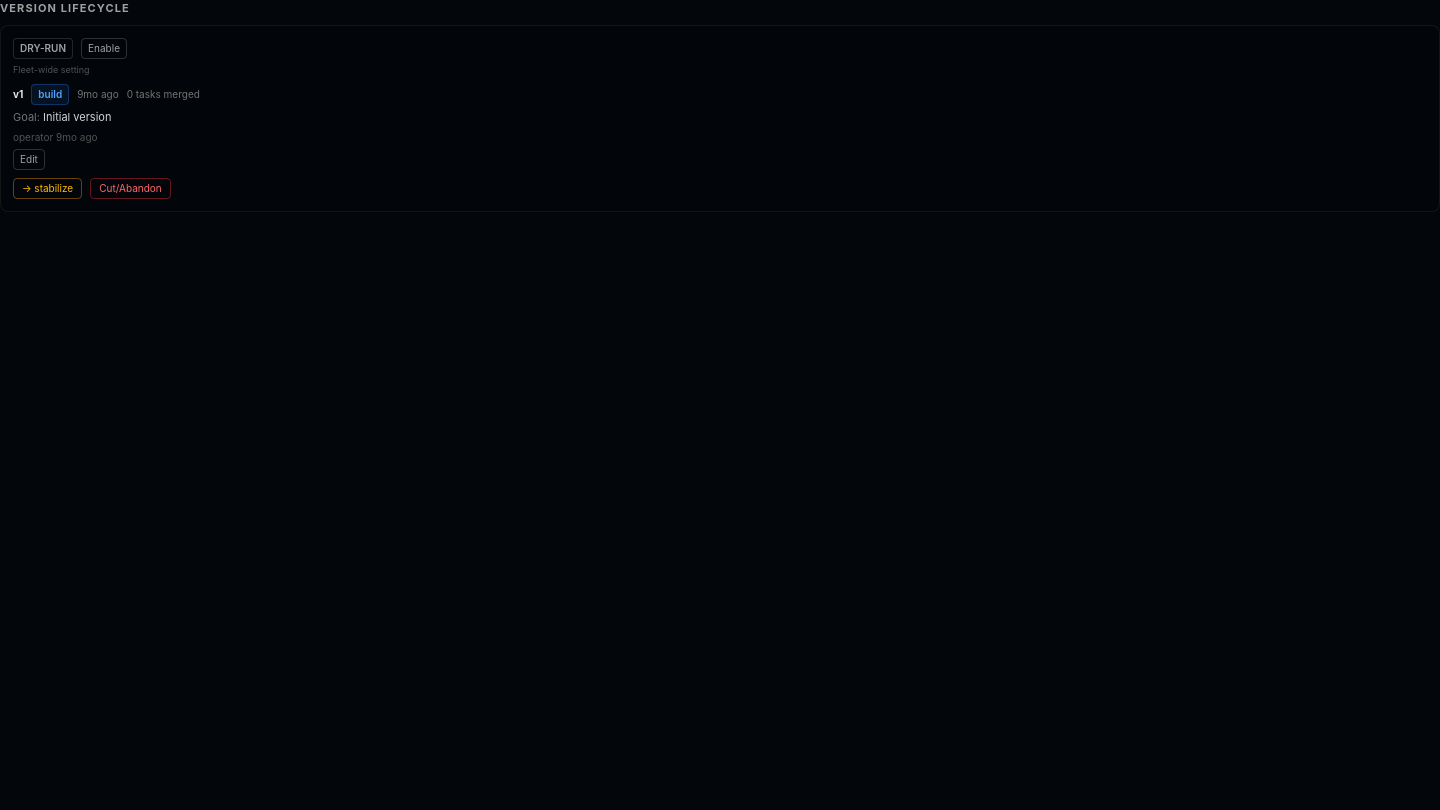
Test case: VersionLifecyclePanel › promotion enabled toggle › reverts the badge when patching promotion settings fails
Click the button "Enable" at [104, 48], box [81, 38, 127, 58]
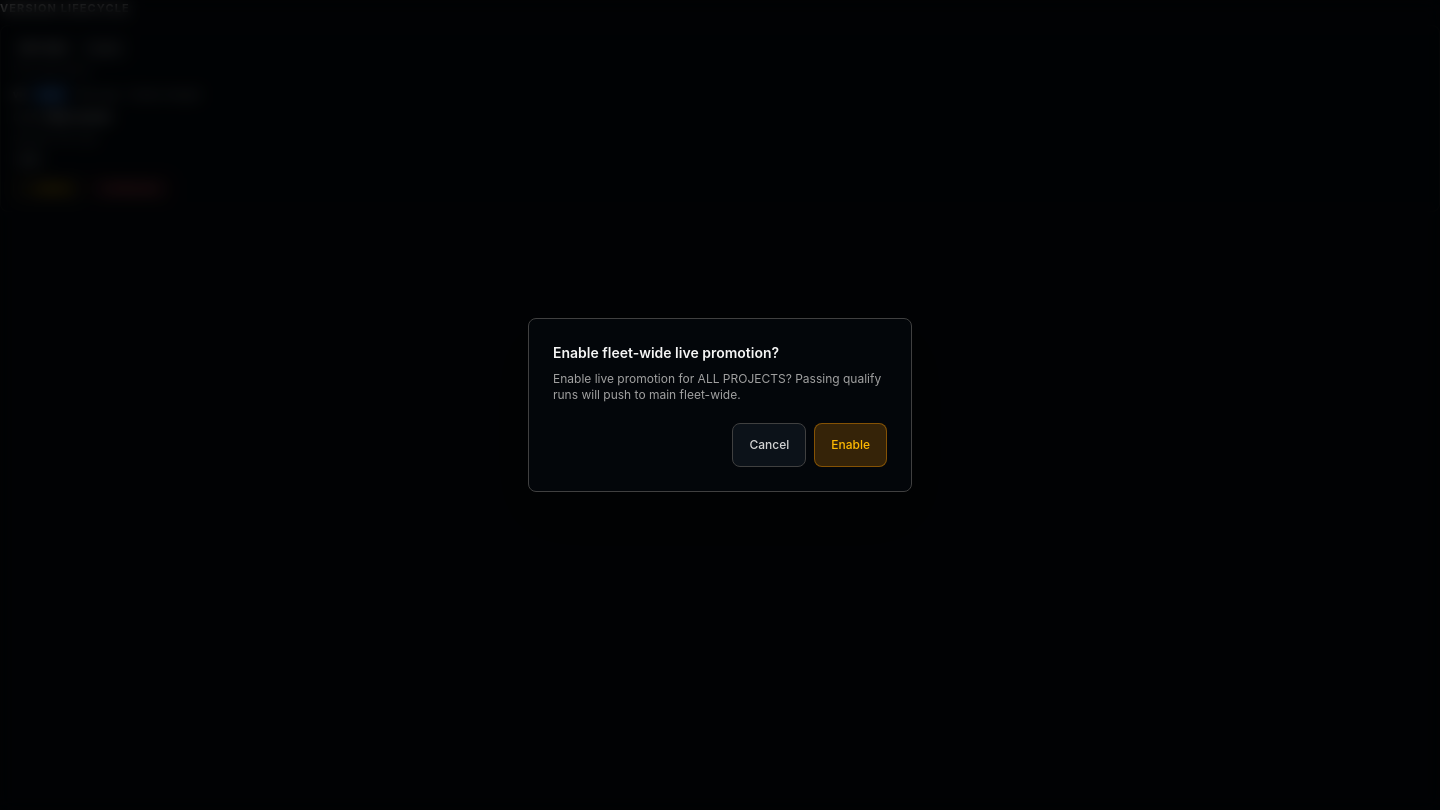
Click the button with test id "confirm-dialog-confirm" at [851, 445], box [814, 423, 887, 467]
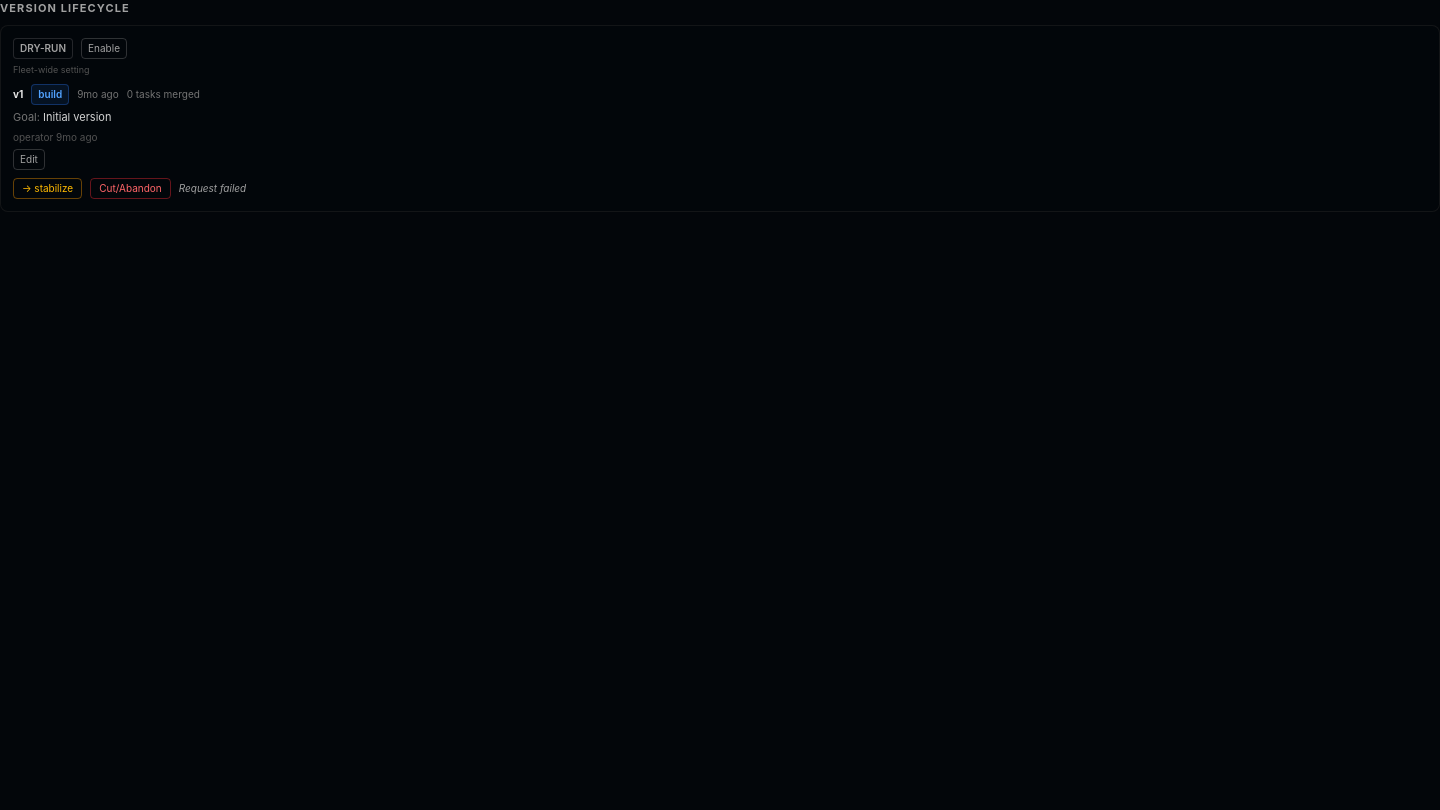
Expected: the text "DRY-RUN" is shown, [13, 38, 73, 58]
Now the text "Request failed" is shown, box [179, 180, 246, 196]
